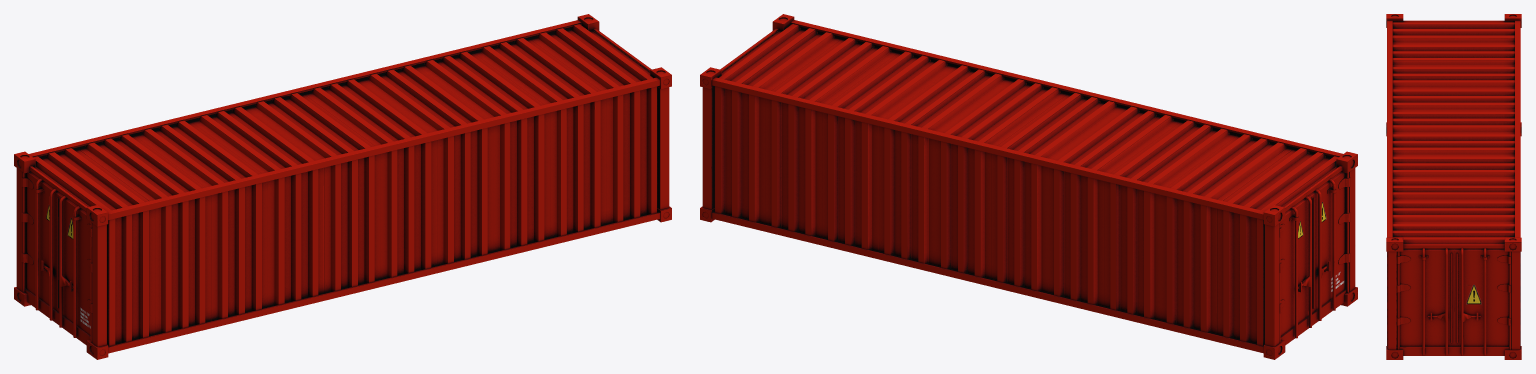
File: 40-RED-container.glb
3 renders of one model, left to right at view 1: azimuth 30°, elevation 25°; view 2: azimuth 150°, elevation 25°; view 3: azimuth 270°, elevation 25°, orthographic. The views are drawn at different scales.
Parts seen in each view (by area): view 1: container; view 2: container; view 3: container.
Part boxes in pixels (bbox=[...]): container: bbox=[14, 14, 671, 359]; container: bbox=[700, 14, 1357, 359]; container: bbox=[1386, 14, 1521, 359].
Bounding box in the file's own units: 43.92 × 10.54 × 10.98.
1 material, 1 textured.
